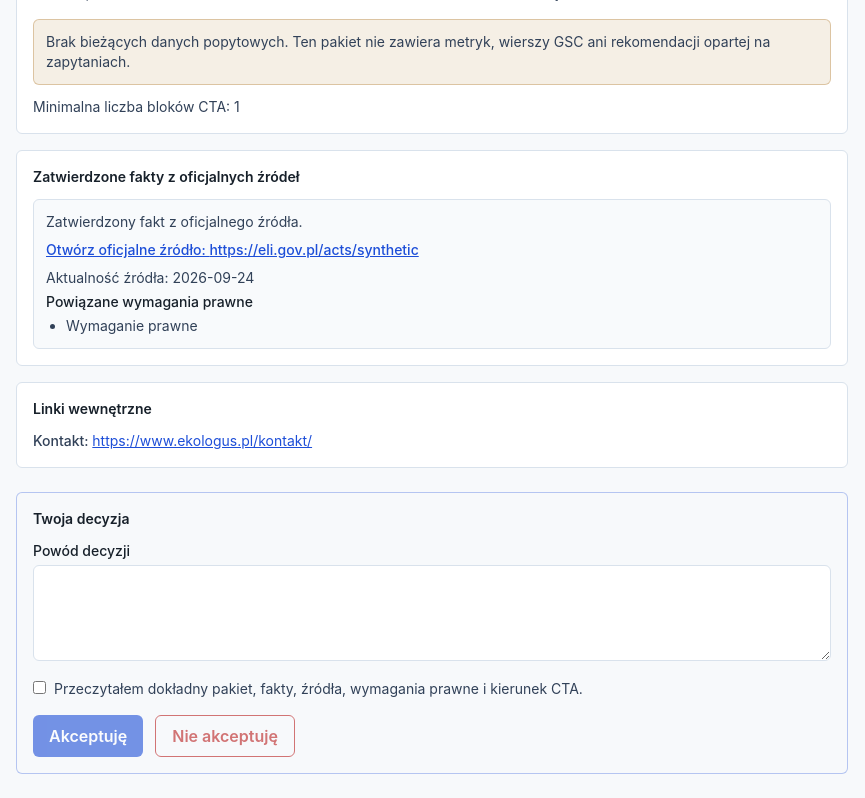
v3 research packet ActionObject review › stops acceptance when validate blocked
(page scrolled)
In the text box labelled "Powód decyzji": (432, 613) [33, 565, 831, 661], type "Potwierdzam pełny odczyt dokładnego pakietu."
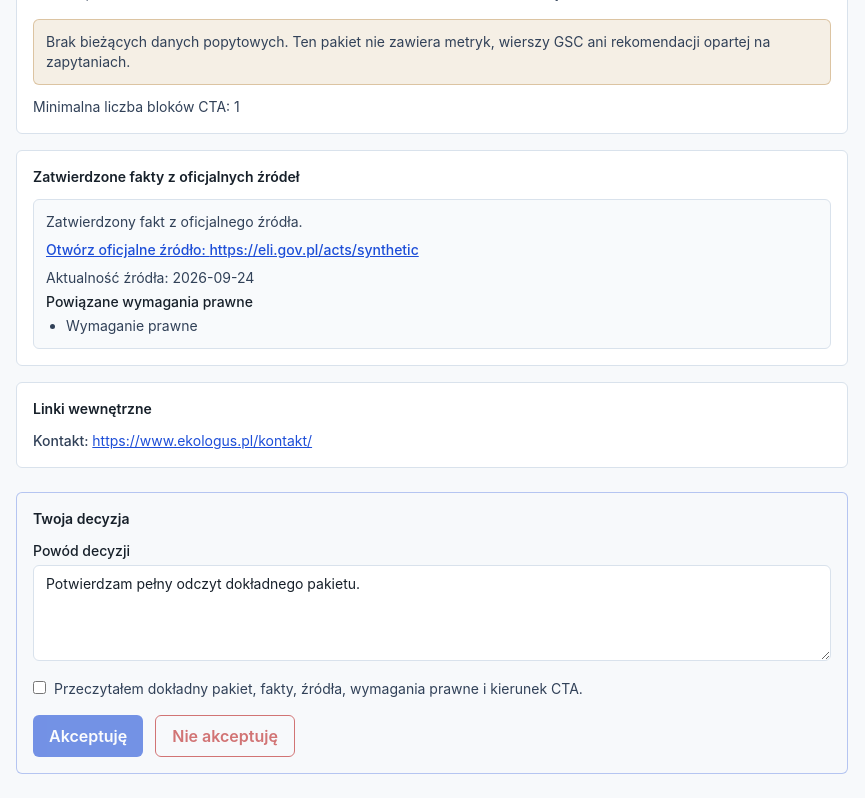
Click the checkbox labelled "Przeczytałem dokładny pakiet": (40, 688) [33, 681, 46, 694]
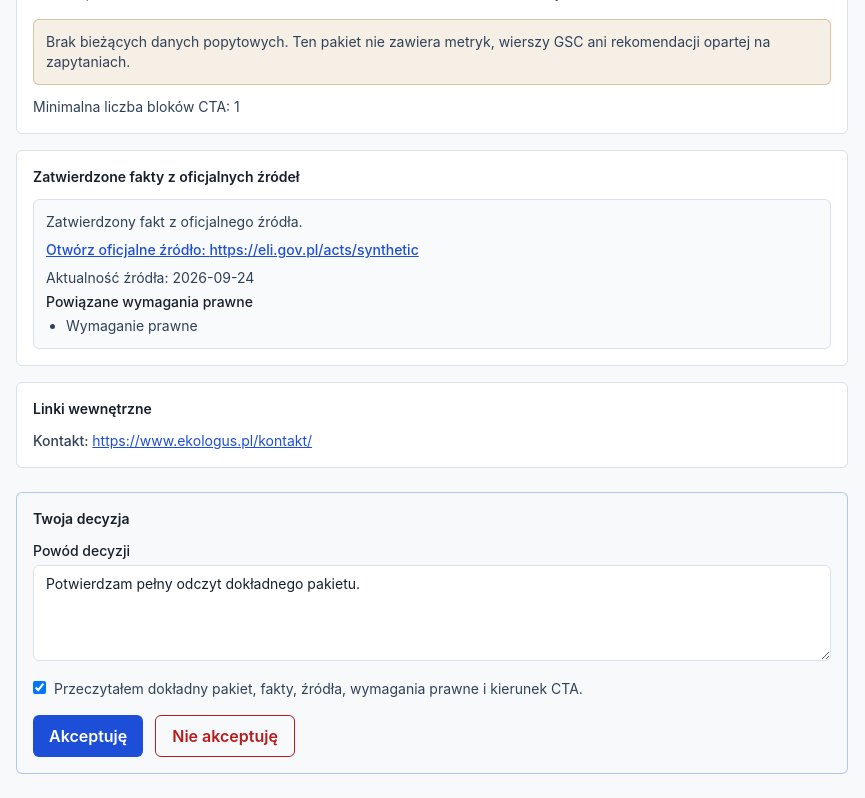
Click the button "Akceptuję": (88, 736) [33, 715, 143, 757]
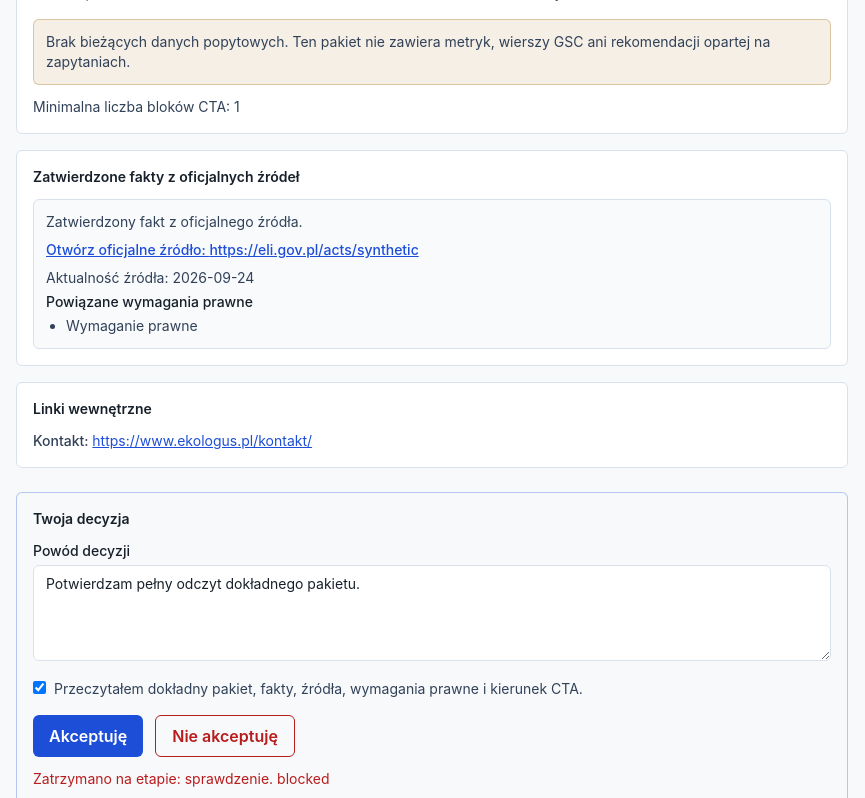
Result: the message "Zatrzymano na etapie: sprawdzenie. blocked" is shown at [33, 770, 330, 787]
